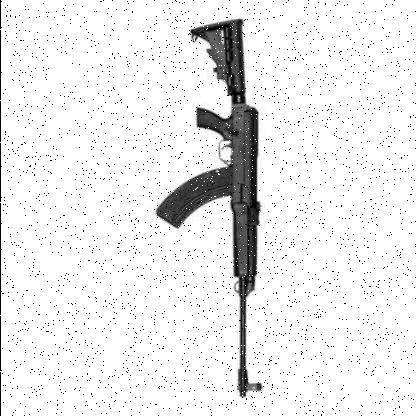rifle: (165, 13, 283, 398)
